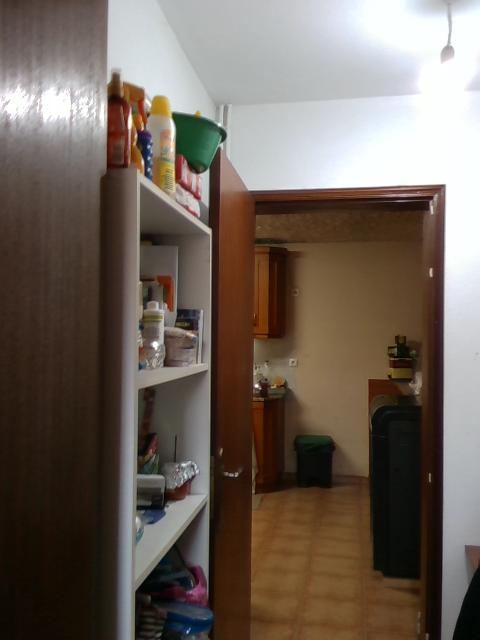open_door: (219, 182, 444, 639)
